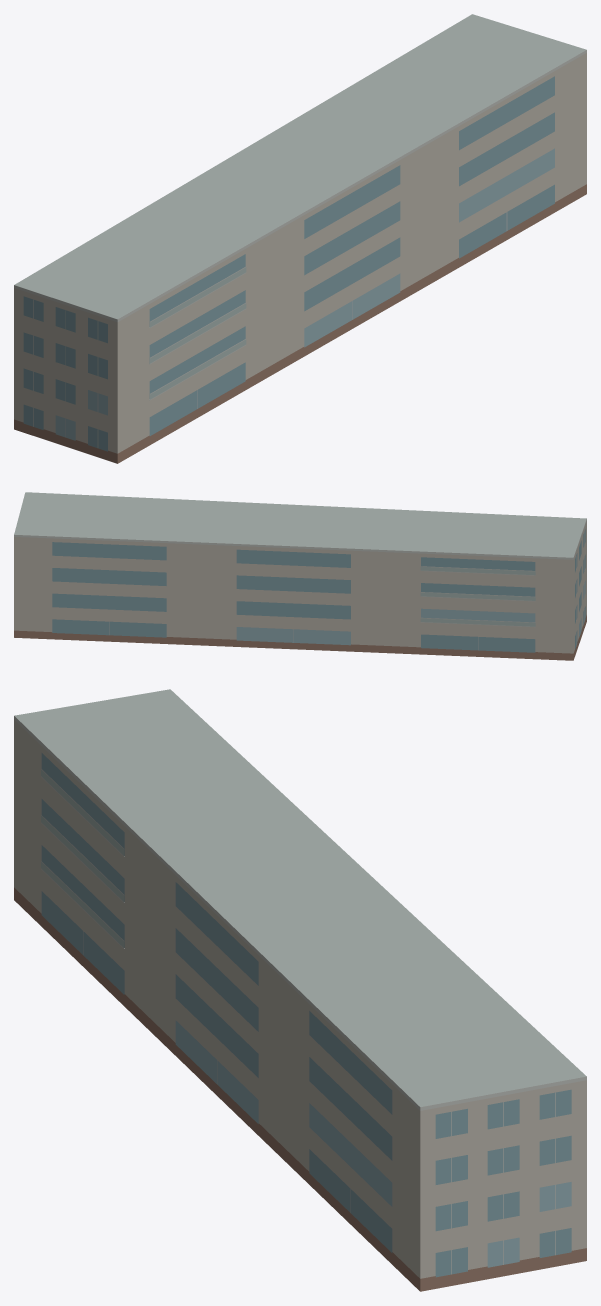
File: residential-f8cb77f1-9c09-4562-91eb-f49e60e76ac7.glb
3 views of the same model, one above another, from view 1: azimuth 30°, elevation 25°; view 2: azimuth 150°, elevation 25°; view 3: azimuth 270°, elevation 25° (orthographic). The views are drawn at different scales.
Parts seen in each view (by area): view 1: residential-f8cb77f1-9c09-4562-91eb-f49e60e76ac7.tmp; view 2: residential-f8cb77f1-9c09-4562-91eb-f49e60e76ac7.tmp; view 3: residential-f8cb77f1-9c09-4562-91eb-f49e60e76ac7.tmp.
Boxes of the visible parts, left/top/right/bottom form: residential-f8cb77f1-9c09-4562-91eb-f49e60e76ac7.tmp: left=14, top=14, right=586, bottom=463; residential-f8cb77f1-9c09-4562-91eb-f49e60e76ac7.tmp: left=14, top=492, right=586, bottom=660; residential-f8cb77f1-9c09-4562-91eb-f49e60e76ac7.tmp: left=14, top=689, right=586, bottom=1291.
Size of the model in its own units: 59.32 by 12.2 by 34.35.
